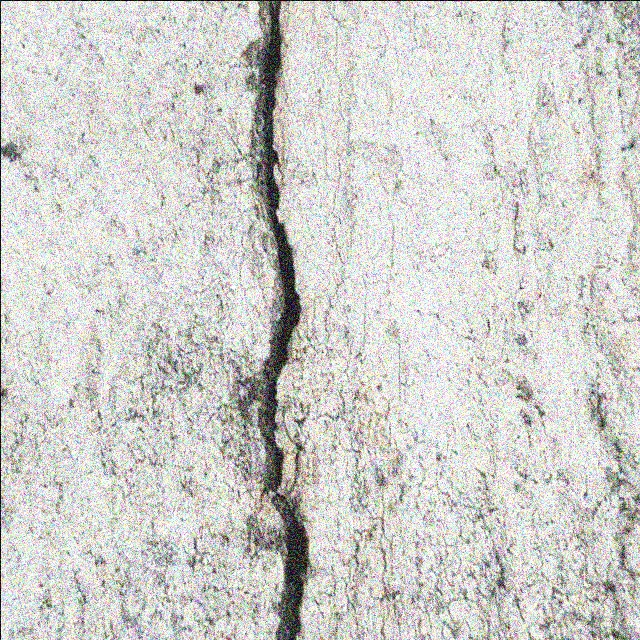SurfaceCrack: (191, 0, 372, 640), (556, 3, 640, 640)
